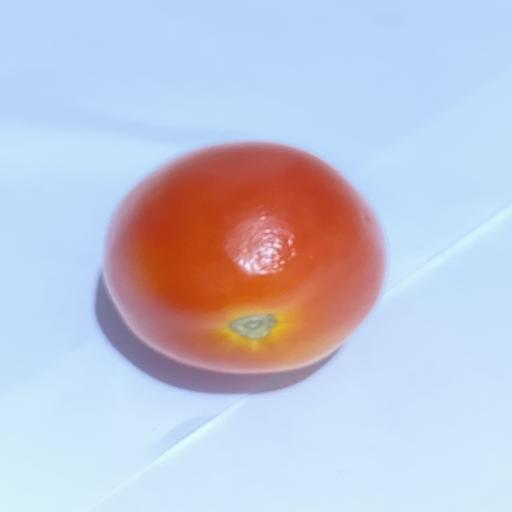overipe: (103, 143, 386, 374)
